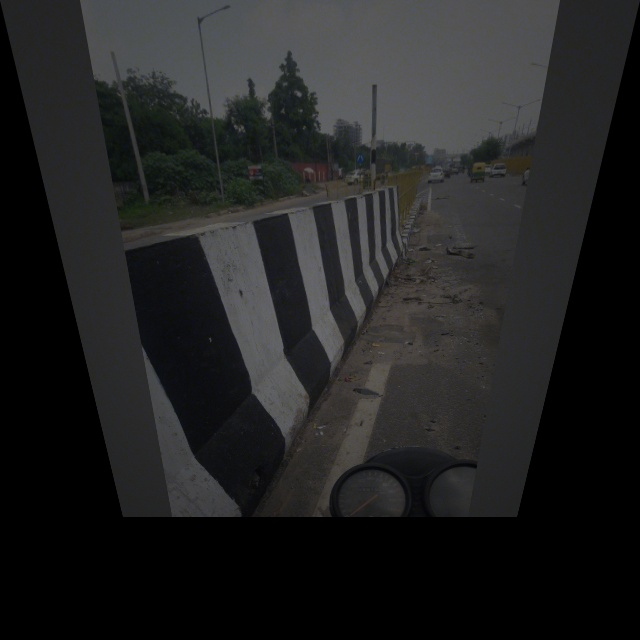Pass_Either_Side: (354, 150, 363, 161)
